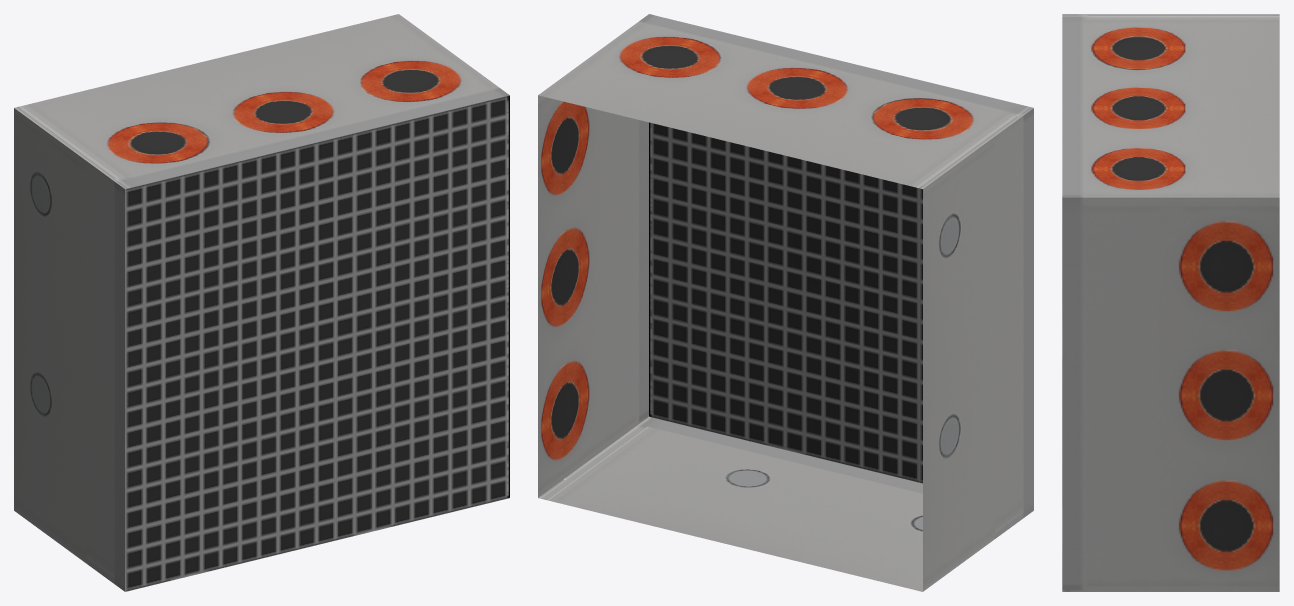
The model's file is smartBlockSimple.obj.
3 renders of one model, left to right at view 1: azimuth 30°, elevation 25°; view 2: azimuth 150°, elevation 25°; view 3: azimuth 270°, elevation 25°, orthographic. The views are drawn at different scales.
Parts seen in each view (by area): view 1: smartblock; view 2: smartblock; view 3: smartblock.
Part boxes in pixels (x1=…): smartblock: x1=14, y1=14, x2=509, y2=591; smartblock: x1=538, y1=14, x2=1033, y2=591; smartblock: x1=1062, y1=14, x2=1279, y2=591.
Bounding box in the file's own units: 25 × 25 × 12.5.
Materials: 2 (2 with a texture image).
